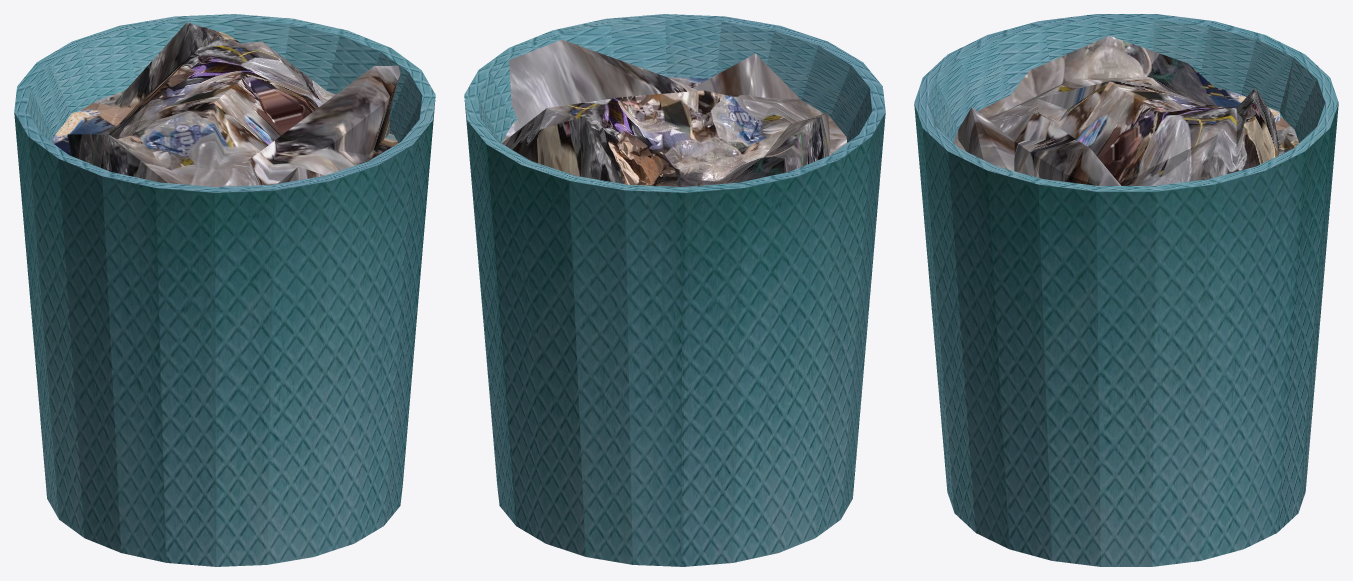
File: Cubo basura.dae
3 renders of one model, left to right at view 1: azimuth 30°, elevation 25°; view 2: azimuth 150°, elevation 25°; view 3: azimuth 270°, elevation 25°, orthographic.
Parts seen in each view (by area): view 1: Cylinder; view 2: Cylinder; view 3: Cylinder.
Boxes of the visible parts, x1=… form: Cylinder: x1=14, y1=14, x2=435, y2=566; Cylinder: x1=464, y1=14, x2=885, y2=566; Cylinder: x1=914, y1=14, x2=1338, y2=566.
Size of the model in its own units: 2.35 by 2.37 by 2.57.
